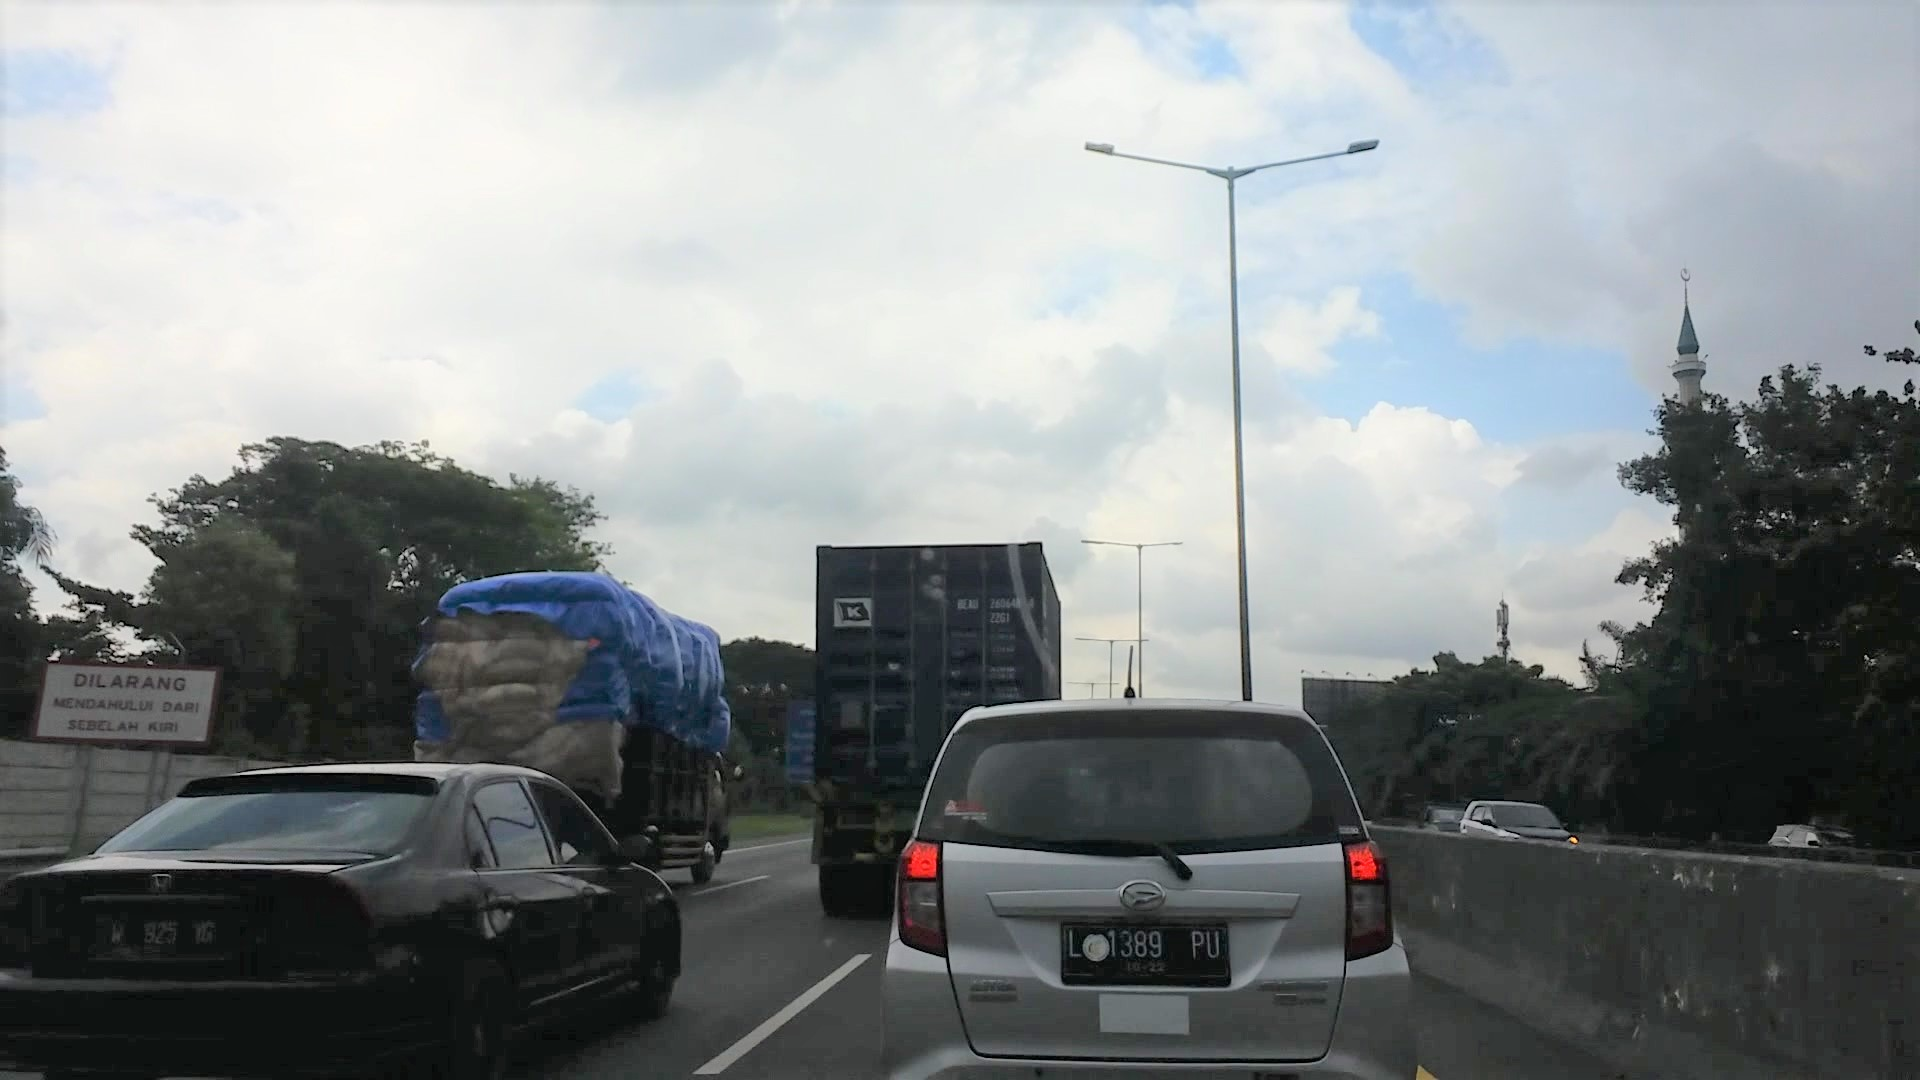plate_positive: (1060, 920, 1232, 986)
